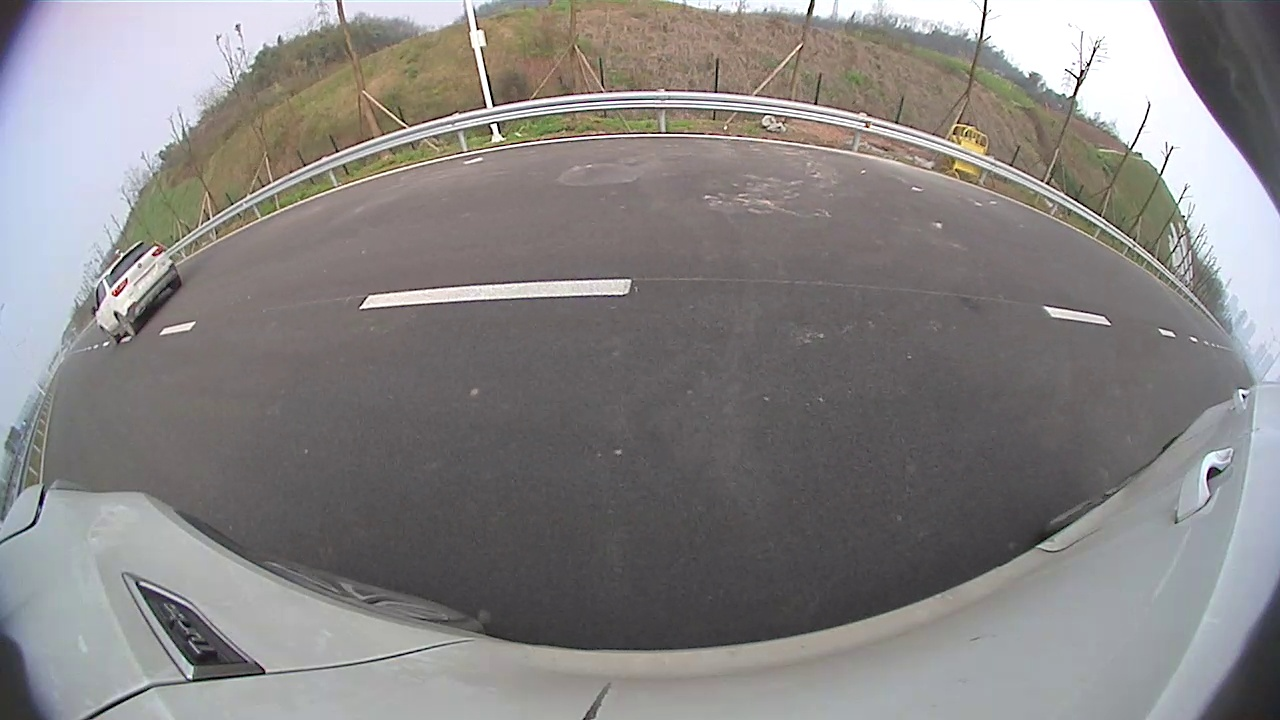car: (93, 239, 183, 342)
rear: (116, 314, 138, 338)
